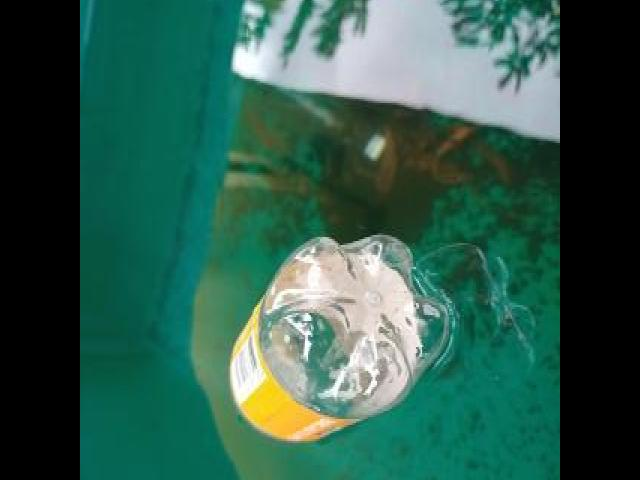Bottle: (230, 230, 454, 444)
